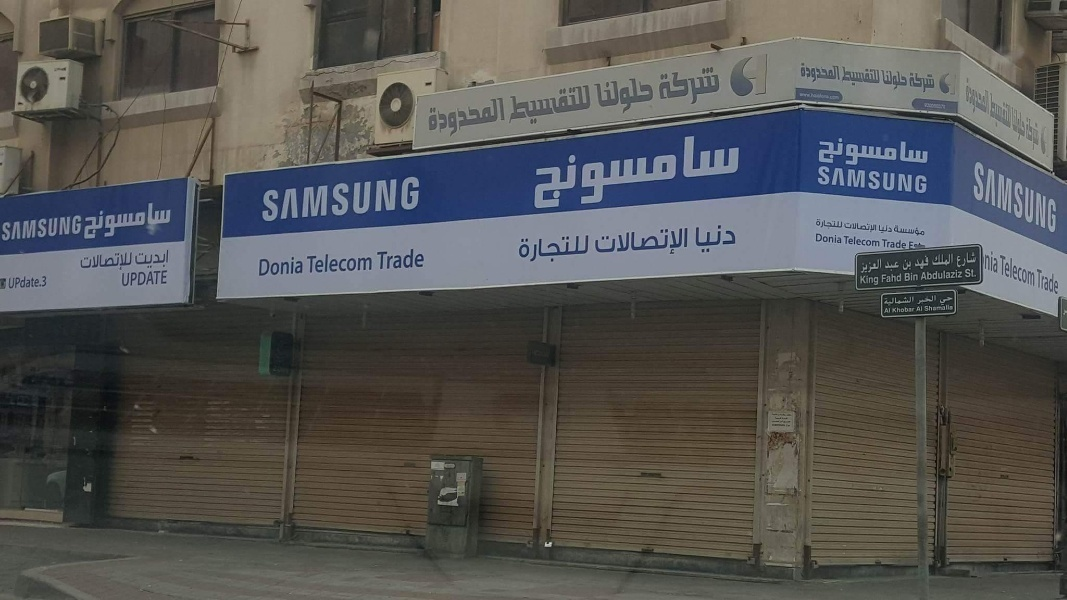text: (545, 130, 560, 211), (561, 130, 576, 211), (577, 130, 592, 211), (593, 130, 608, 211), (609, 130, 624, 211), (625, 130, 640, 211), (641, 130, 656, 211), (657, 130, 672, 211), (673, 130, 688, 211), (689, 130, 704, 211), (705, 130, 720, 211), (721, 130, 736, 211), (977, 157, 992, 237), (993, 157, 1008, 237), (1009, 157, 1024, 237), (1025, 157, 1040, 237), (1041, 157, 1056, 237), (273, 173, 288, 225), (289, 173, 304, 225), (305, 173, 320, 225), (321, 173, 336, 225), (337, 173, 352, 225), (353, 173, 368, 225), (369, 173, 384, 225), (385, 173, 400, 225), (401, 173, 416, 225), (513, 83, 528, 128), (529, 83, 544, 128), (545, 83, 560, 128), (561, 83, 576, 128), (577, 83, 592, 128), (993, 91, 1008, 136), (97, 199, 112, 243), (113, 199, 128, 243), (129, 199, 144, 243), (145, 199, 160, 243), (609, 73, 624, 117), (625, 73, 640, 117), (641, 73, 656, 117), (433, 97, 448, 140), (449, 97, 464, 140), (465, 97, 480, 140), (481, 97, 496, 140), (657, 67, 672, 109), (673, 67, 688, 109), (689, 67, 704, 109), (705, 67, 720, 109), (594, 73, 608, 117), (977, 76, 990, 121), (537, 130, 544, 211), (1009, 253, 1024, 290), (17, 211, 32, 246), (33, 211, 48, 246), (49, 211, 64, 246), (65, 211, 80, 246), (833, 136, 848, 171), (849, 136, 864, 171), (865, 136, 880, 171), (881, 136, 896, 171), (897, 136, 912, 171), (913, 136, 928, 171), (262, 173, 272, 225), (1027, 116, 1040, 156), (609, 226, 624, 259), (625, 226, 640, 259), (641, 226, 656, 259), (657, 226, 672, 259), (673, 226, 688, 259), (1012, 104, 1024, 145), (2, 211, 16, 246), (85, 199, 96, 243), (1025, 253, 1038, 290), (529, 233, 544, 265), (545, 233, 560, 265), (561, 233, 576, 265), (705, 224, 720, 255), (721, 224, 736, 255), (817, 165, 832, 196), (833, 165, 848, 196), (849, 165, 864, 196), (865, 165, 880, 196), (881, 165, 896, 196), (897, 165, 912, 196), (913, 165, 928, 196), (966, 76, 976, 121), (161, 199, 171, 243), (497, 97, 507, 140), (595, 226, 608, 259), (417, 173, 425, 225), (577, 233, 590, 265), (1041, 269, 1056, 296), (821, 136, 832, 171), (913, 71, 928, 95), (801, 62, 816, 85), (817, 62, 832, 85), (385, 248, 400, 271), (401, 248, 416, 271), (849, 66, 864, 89), (865, 66, 880, 89), (289, 256, 305, 277), (145, 248, 160, 270), (81, 252, 96, 274), (97, 252, 112, 274), (113, 252, 128, 274), (737, 130, 741, 211), (1057, 157, 1061, 237), (321, 253, 336, 274), (337, 253, 352, 274), (353, 253, 368, 274), (273, 256, 288, 277), (505, 83, 512, 128), (882, 69, 896, 91), (129, 269, 144, 289), (145, 269, 160, 289), (1000, 253, 1008, 290), (306, 253, 320, 274), (519, 233, 528, 265), (695, 224, 704, 255), (259, 256, 272, 277), (961, 250, 976, 268), (865, 257, 880, 275), (426, 97, 432, 140), (897, 69, 908, 91), (17, 275, 32, 290), (33, 275, 47, 290), (897, 223, 912, 237), (849, 234, 864, 248), (865, 234, 880, 248), (915, 254, 928, 270), (417, 248, 426, 271), (135, 248, 144, 270), (161, 248, 170, 270), (985, 249, 992, 276), (993, 249, 1000, 276), (933, 252, 944, 269), (833, 62, 841, 85), (913, 223, 926, 237), (849, 221, 864, 233), (817, 218, 832, 230), (817, 233, 832, 245), (881, 238, 896, 250), (929, 269, 944, 281), (945, 269, 960, 281), (929, 71, 936, 95), (1057, 269, 1063, 296), (377, 248, 384, 271), (974, 157, 976, 237), (161, 269, 169, 289), (865, 221, 878, 233), (945, 252, 954, 269), (801, 92, 816, 102), (817, 92, 832, 102), (865, 276, 880, 286), (881, 273, 896, 283), (897, 296, 912, 306), (833, 218, 845, 230), (1009, 91, 1012, 136), (897, 306, 912, 315), (881, 223, 893, 234), (897, 238, 908, 250), (885, 260, 896, 272), (917, 295, 928, 306), (8, 275, 16, 290), (122, 269, 128, 289), (929, 304, 944, 312), (903, 259, 912, 272), (843, 66, 848, 89), (965, 269, 976, 279), (945, 296, 955, 307), (885, 296, 896, 306), (833, 233, 842, 245), (369, 253, 374, 274), (929, 136, 932, 171), (929, 103, 944, 110), (913, 241, 923, 251), (908, 71, 912, 95), (929, 165, 932, 196), (593, 83, 595, 128), (129, 252, 133, 274), (929, 295, 937, 306), (885, 307, 896, 315), (654, 67, 656, 109), (721, 67, 723, 109), (921, 269, 928, 281), (916, 305, 928, 312), (1025, 104, 1027, 145), (833, 92, 841, 102), (904, 272, 912, 282), (956, 250, 960, 268), (945, 304, 954, 312), (772, 412, 784, 418), (81, 211, 83, 246), (843, 234, 848, 248), (913, 272, 920, 282), (737, 224, 739, 255), (897, 273, 903, 283), (1038, 269, 1040, 296), (861, 257, 864, 275), (897, 260, 901, 272), (961, 269, 965, 281), (772, 424, 784, 428), (991, 91, 992, 136), (940, 296, 944, 307), (773, 420, 784, 424), (1041, 116, 1042, 156), (860, 276, 864, 286), (881, 257, 883, 275), (788, 414, 800, 417), (689, 226, 690, 259), (929, 254, 931, 270), (924, 304, 928, 312), (909, 241, 912, 251), (924, 103, 928, 110), (785, 420, 792, 424), (893, 306, 896, 315), (913, 306, 916, 315), (775, 417, 784, 420), (846, 221, 848, 233), (785, 424, 791, 428), (881, 66, 882, 89), (945, 103, 948, 110), (913, 296, 915, 306), (977, 250, 978, 268), (895, 223, 896, 237), (785, 412, 787, 418), (785, 417, 789, 420), (879, 223, 880, 234), (799, 92, 800, 102), (977, 269, 978, 279)
